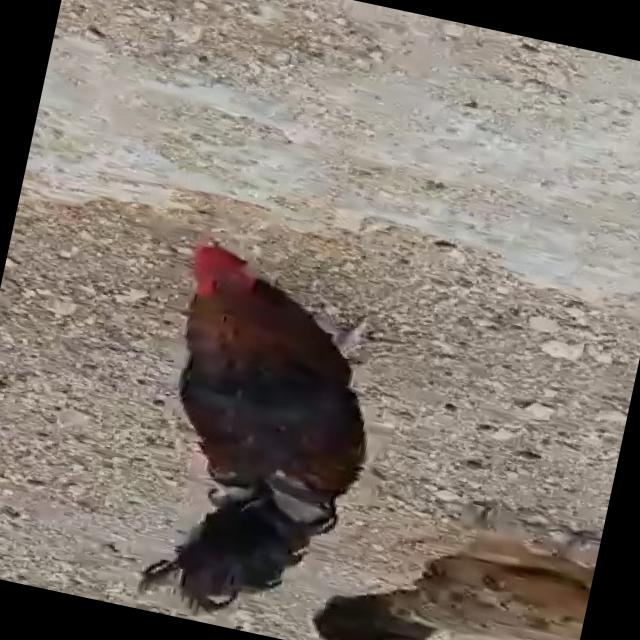pecking: (78, 221, 414, 640)
